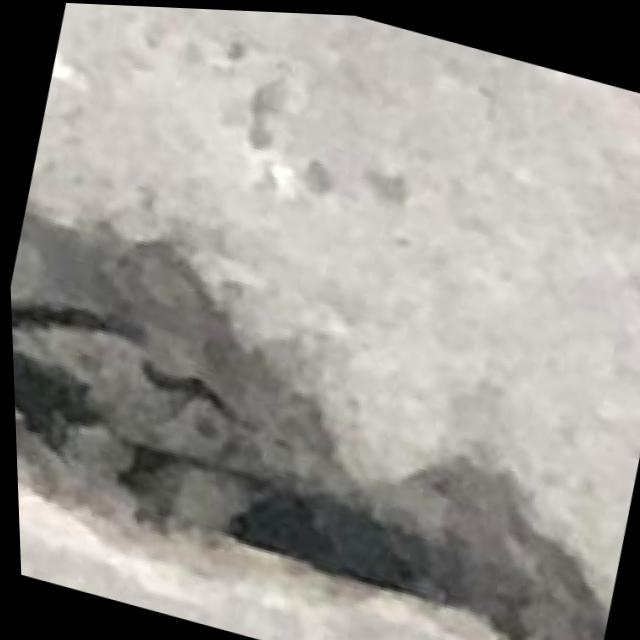Crack: (5, 189, 640, 640)
